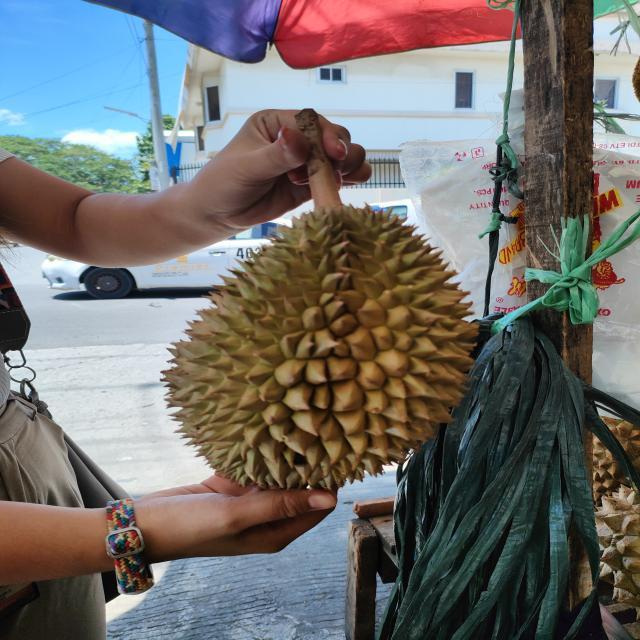mature: (157, 200, 480, 485)
